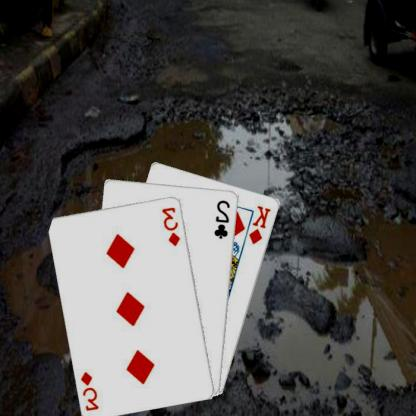2C: (214, 198, 233, 240)
3D: (80, 368, 102, 412), (161, 204, 183, 247)
KD: (248, 203, 274, 246)
